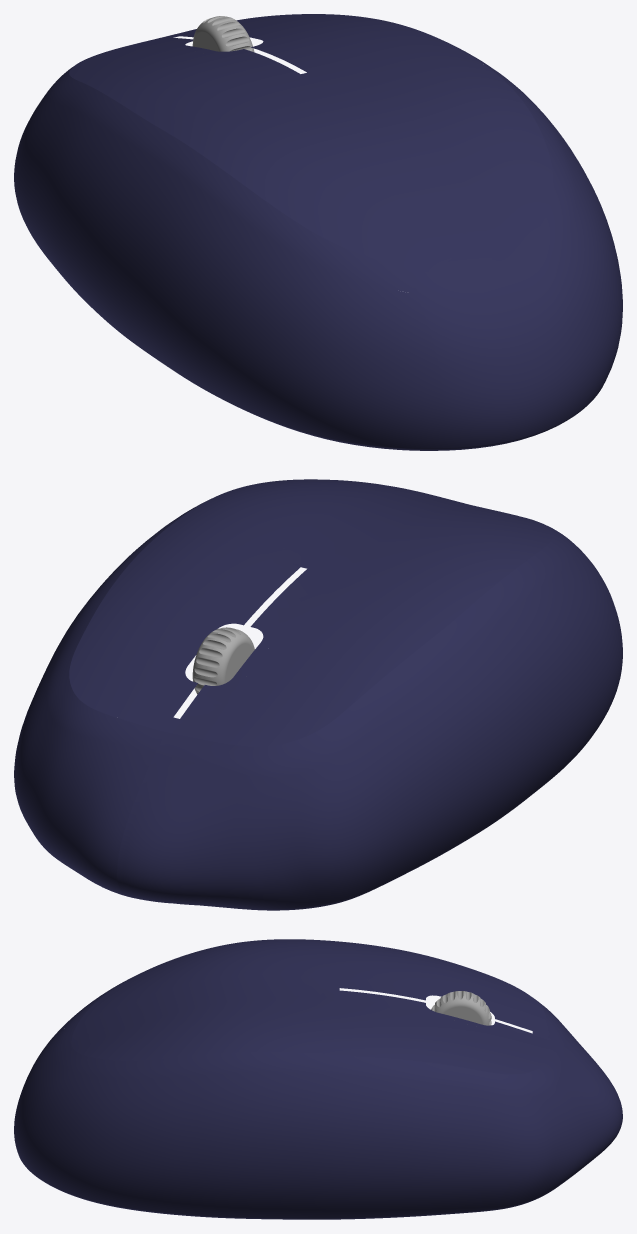
The model's file is 滑鼠殼.glb.
3 renders of one model, top to bottom at view 1: azimuth 30°, elevation 25°; view 2: azimuth 150°, elevation 25°; view 3: azimuth 270°, elevation 25°, orthographic. The views are drawn at different scales.
Bounding box in the file's own units: 0.0324 × 0.0161 × 0.053.
